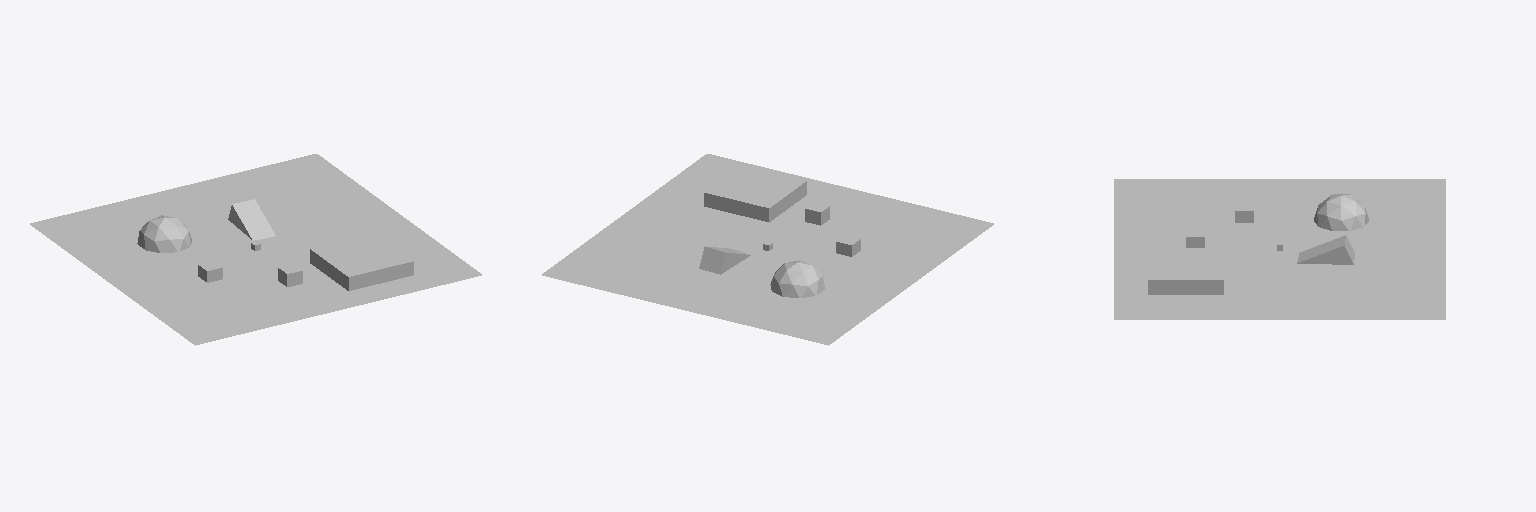
File: map4.obj
3 renders of one model, left to right at view 1: azimuth 30°, elevation 25°; view 2: azimuth 150°, elevation 25°; view 3: azimuth 270°, elevation 25°, orthographic.
Visible parts, largest first — view 1: Plane, Cube.004, Icosphere, Cube.003; view 2: Plane, Cube.004, Icosphere, Cube.003; view 3: Plane, Cube.004, Icosphere, Cube.003.
Part boxes in pixels (left/top/right/bottom): Plane: left=30, top=154, right=481, bottom=345; Cube.004: left=310, top=233, right=413, bottom=290; Icosphere: left=137, top=215, right=191, bottom=253; Cube.003: left=228, top=199, right=275, bottom=240; Plane: left=542, top=154, right=993, bottom=345; Cube.004: left=704, top=165, right=806, bottom=222; Icosphere: left=770, top=260, right=824, bottom=297; Cube.003: left=699, top=246, right=750, bottom=274; Plane: left=1114, top=179, right=1445, bottom=319; Cube.004: left=1148, top=248, right=1223, bottom=294; Icosphere: left=1314, top=194, right=1368, bottom=230; Cube.003: left=1297, top=235, right=1354, bottom=264.
Size of the model in its own units: 100 by 20.42 by 100.